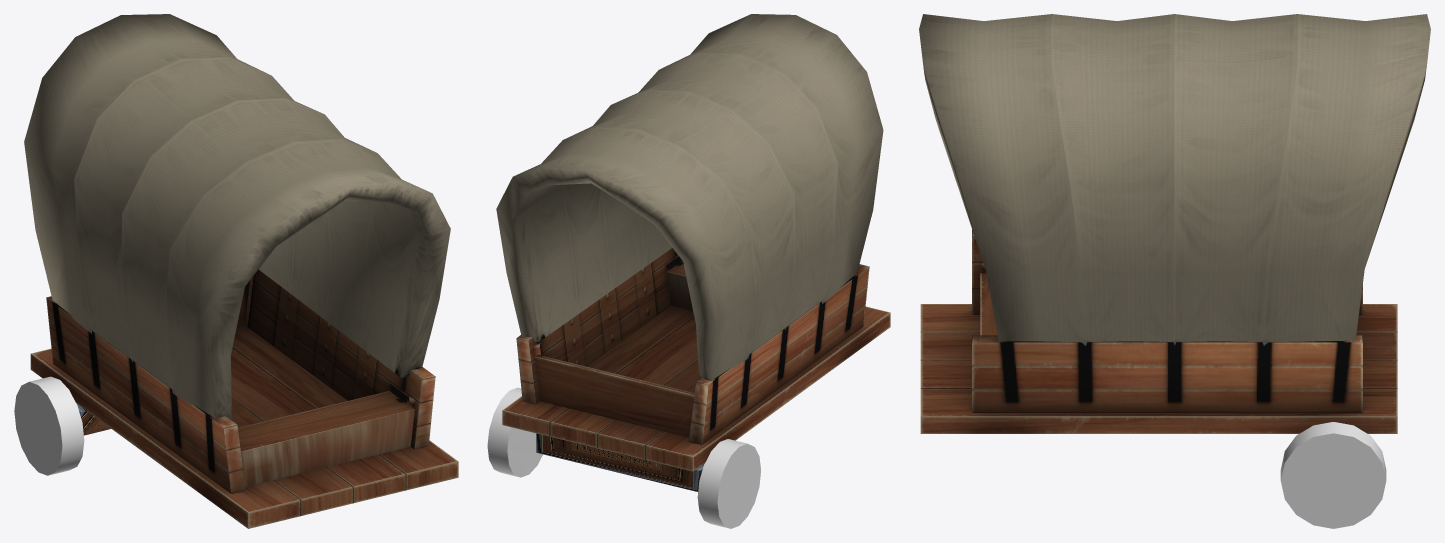
The model's file is sb_obj_outdoor026_Carriage01_col.fbx.
The picture shows the model from 3 angles, left to right: view 1: azimuth 30°, elevation 25°; view 2: azimuth 150°, elevation 25°; view 3: azimuth 270°, elevation 25°; orthographic projection. The views are drawn at different scales.
Visible parts, largest first — view 1: sb_obj_outdoor026_Carriage01_col; view 2: sb_obj_outdoor026_Carriage01_col; view 3: sb_obj_outdoor026_Carriage01_col.
Part boxes in pixels (x1=…): sb_obj_outdoor026_Carriage01_col: x1=14, y1=14, x2=458, y2=528; sb_obj_outdoor026_Carriage01_col: x1=487, y1=14, x2=890, y2=528; sb_obj_outdoor026_Carriage01_col: x1=919, y1=14, x2=1430, y2=528.
Size of the model in its own units: 2.41 by 3.58 by 3.85.
